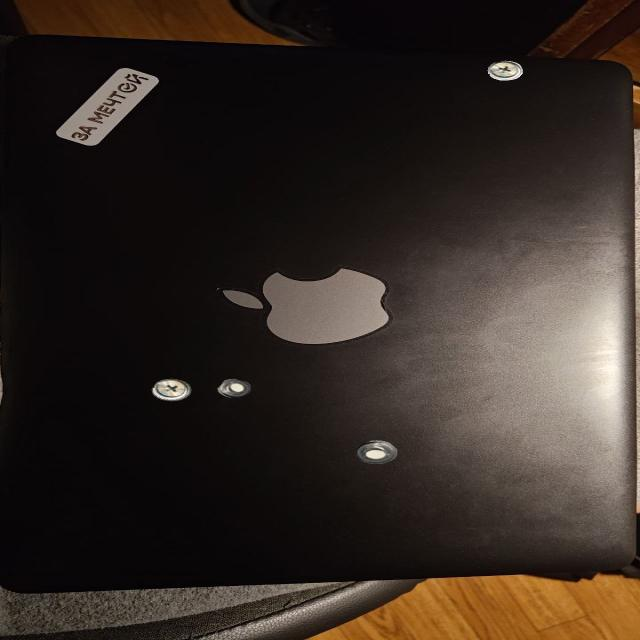lock: (151, 378, 190, 400), (487, 60, 523, 80)
missing_screw: (355, 440, 397, 464), (217, 378, 251, 398)
